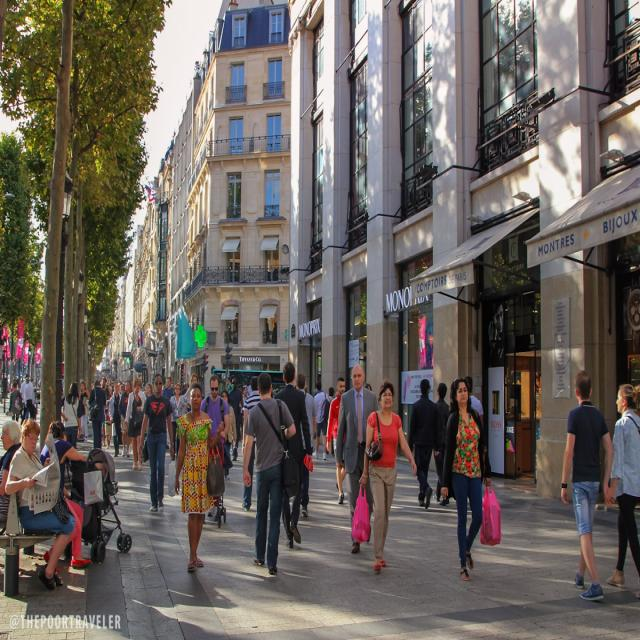body: (559, 369, 615, 602), (440, 376, 502, 583), (4, 417, 76, 591), (241, 369, 298, 576), (357, 380, 418, 572), (37, 417, 104, 575), (173, 379, 226, 575), (334, 363, 380, 555), (272, 361, 314, 549), (604, 380, 639, 601), (137, 373, 179, 515), (408, 378, 440, 510), (295, 371, 317, 518), (240, 374, 262, 510), (326, 375, 347, 505), (0, 418, 23, 523), (123, 378, 148, 471), (199, 374, 231, 444), (433, 381, 450, 503), (169, 382, 192, 464), (311, 381, 331, 462), (220, 390, 238, 480), (60, 381, 82, 450), (227, 376, 244, 462), (89, 379, 166, 396), (88, 378, 106, 449), (464, 374, 486, 432), (108, 382, 122, 458), (119, 380, 132, 458), (241, 376, 281, 399), (162, 376, 174, 451), (20, 376, 38, 426), (76, 380, 90, 442), (4, 382, 23, 423), (99, 377, 110, 447), (19, 373, 33, 426), (325, 386, 335, 458), (184, 372, 200, 412), (104, 399, 113, 449), (264, 316, 278, 346), (142, 382, 156, 400), (294, 382, 310, 394), (8, 379, 20, 392), (226, 376, 234, 394), (242, 386, 248, 404), (234, 320, 239, 341), (181, 383, 188, 396), (95, 461, 104, 471), (364, 382, 373, 392)
